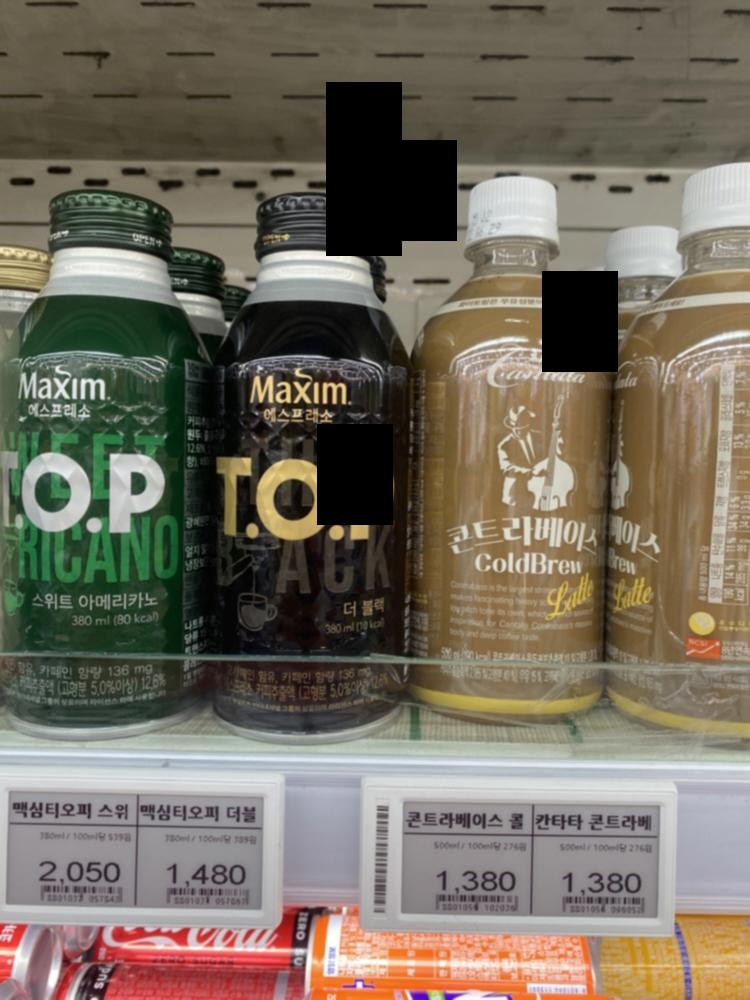TOP_black: (197, 186, 422, 743)
